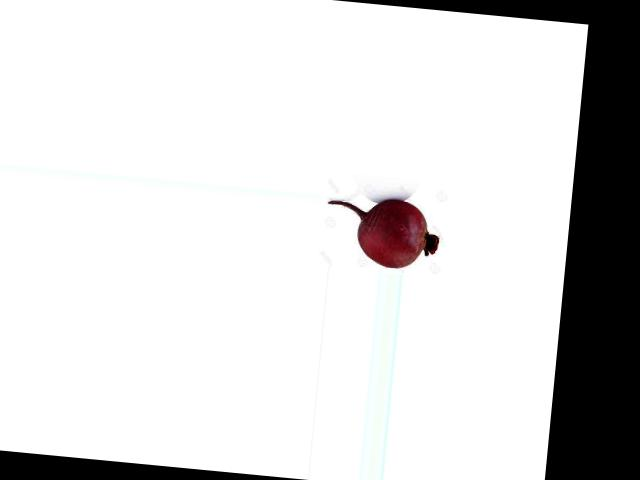beet: (322, 193, 441, 271)
